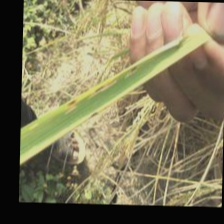Bacterial_Leaf_Blight: (91, 79, 118, 91), (126, 61, 140, 73), (66, 96, 77, 105)
